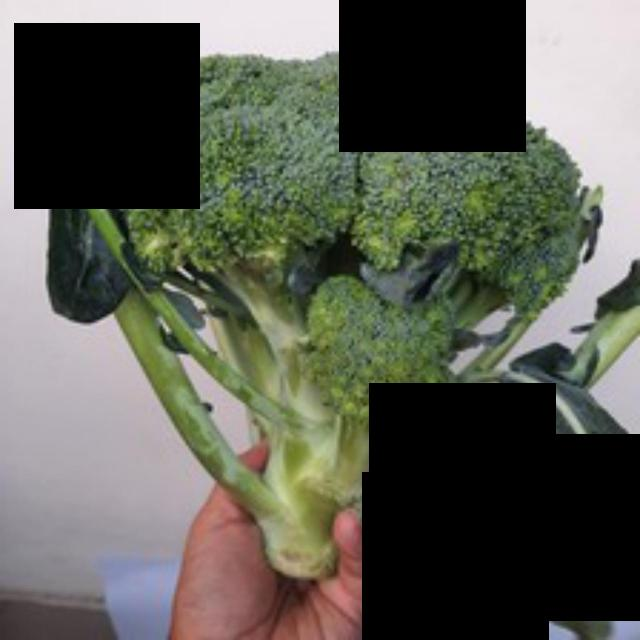broccoli: (121, 22, 592, 589)
